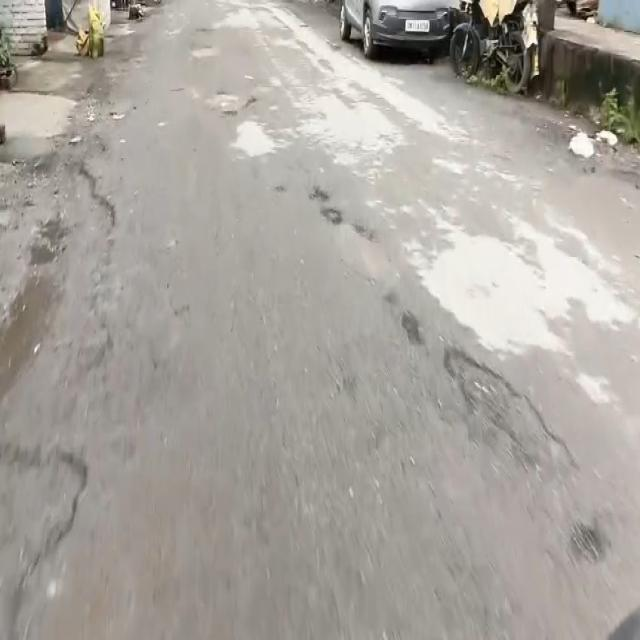road-pothole: (1, 150, 116, 373), (444, 337, 581, 491), (0, 436, 88, 622), (304, 180, 345, 227), (567, 516, 605, 565), (399, 300, 433, 352)
